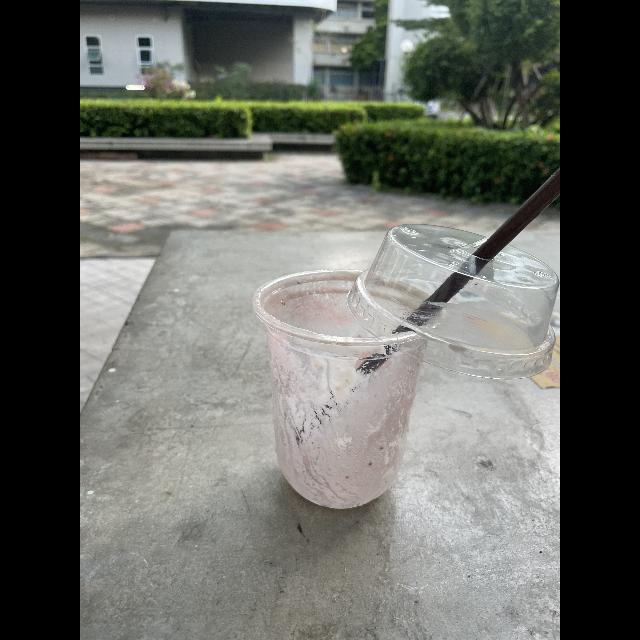plastic_cup: (255, 260, 411, 524)
plastic_cup_lid: (354, 216, 560, 388)
straw: (284, 164, 560, 455)
